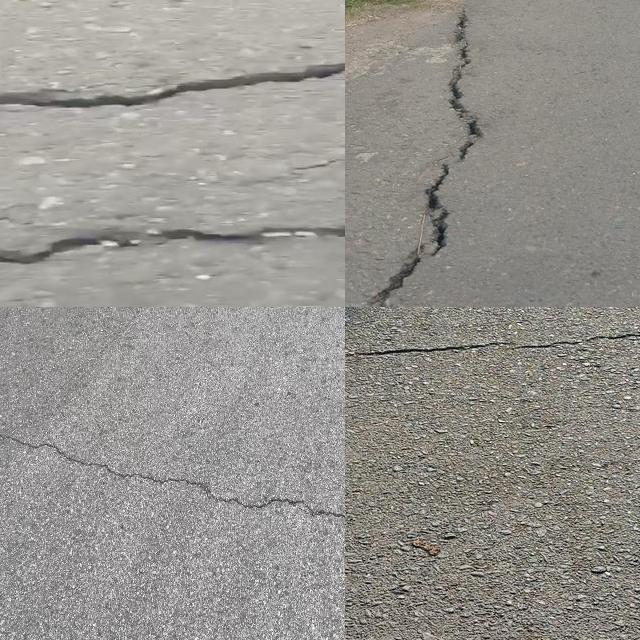Melintang: (0, 422, 345, 534), (0, 44, 345, 120), (0, 208, 345, 273), (345, 320, 640, 382)
Memanjang: (364, 0, 493, 307)
